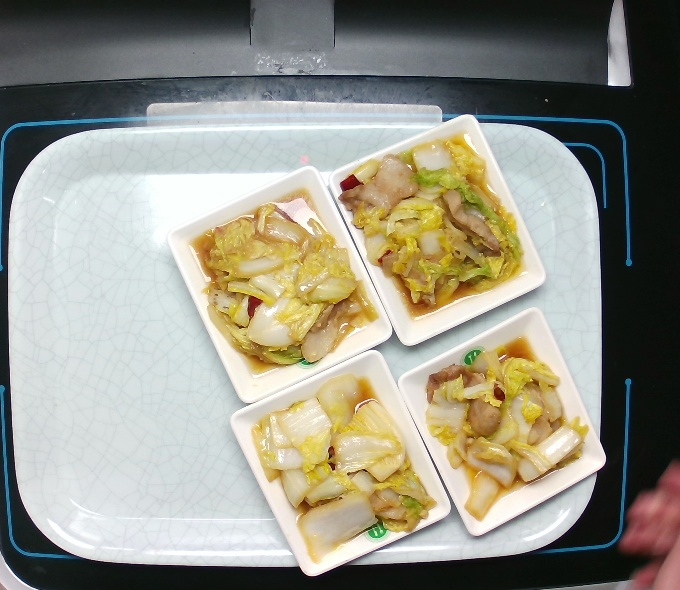wcq-DaBaiCaiRouPian: (245, 371, 432, 561), (342, 143, 522, 309), (197, 196, 366, 369), (422, 352, 587, 519)
